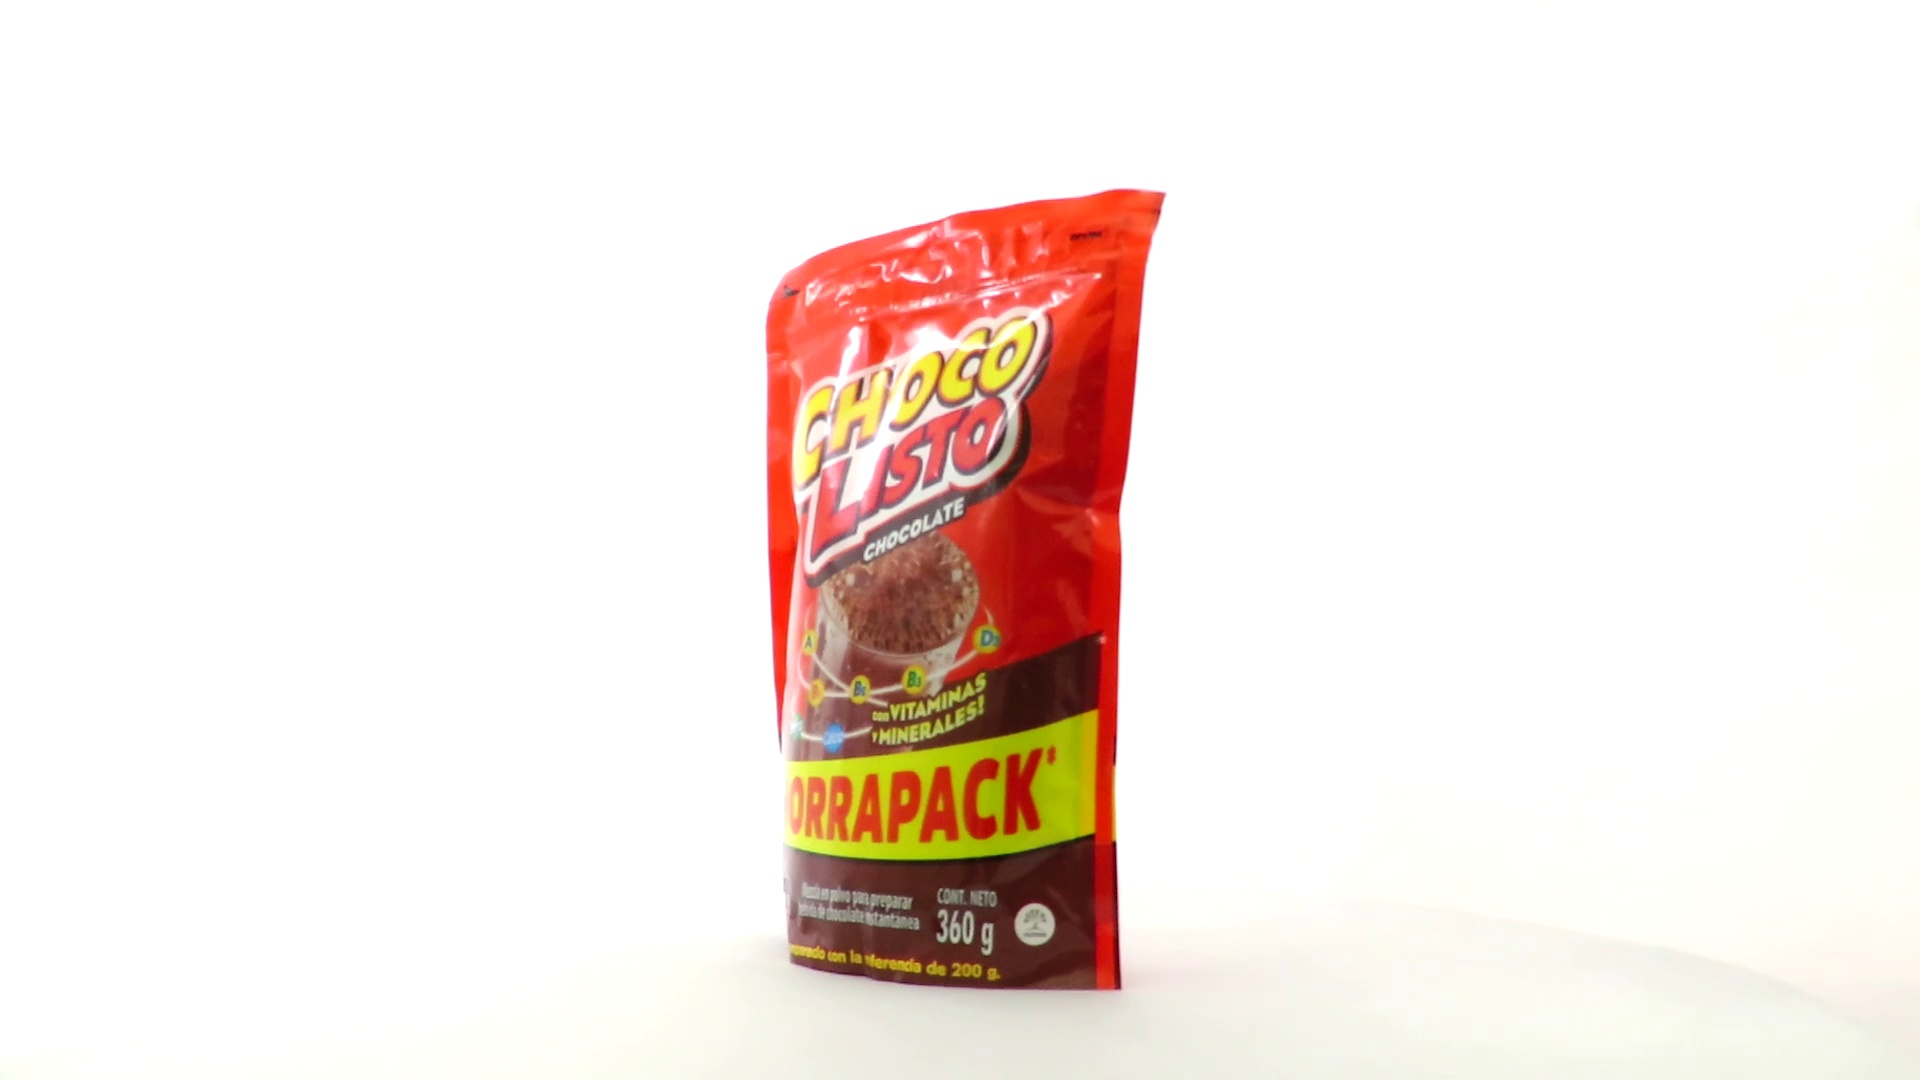COL0170103DYP36000: (760, 183, 1172, 997)
